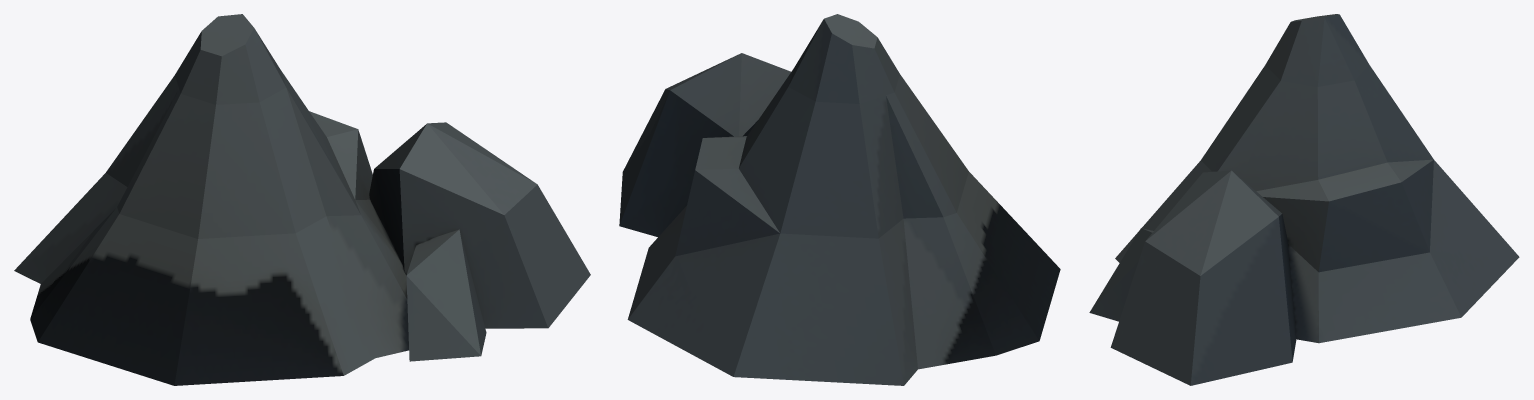
File: Volcano_rock_2.fbx
The picture shows the model from 3 angles, left to right: view 1: azimuth 30°, elevation 25°; view 2: azimuth 150°, elevation 25°; view 3: azimuth 270°, elevation 25°; orthographic projection. The views are drawn at different scales.
Visible parts, largest first — view 1: Volcano_rock_2; view 2: Volcano_rock_2; view 3: Volcano_rock_2.
Boxes of the visible parts, <box> form: Volcano_rock_2: <box>14,14,590,385</box>; Volcano_rock_2: <box>619,14,1060,385</box>; Volcano_rock_2: <box>1089,14,1519,385</box>.
Size of the model in its own units: 3.49 by 1.89 by 2.97.
1 material, 1 textured.
